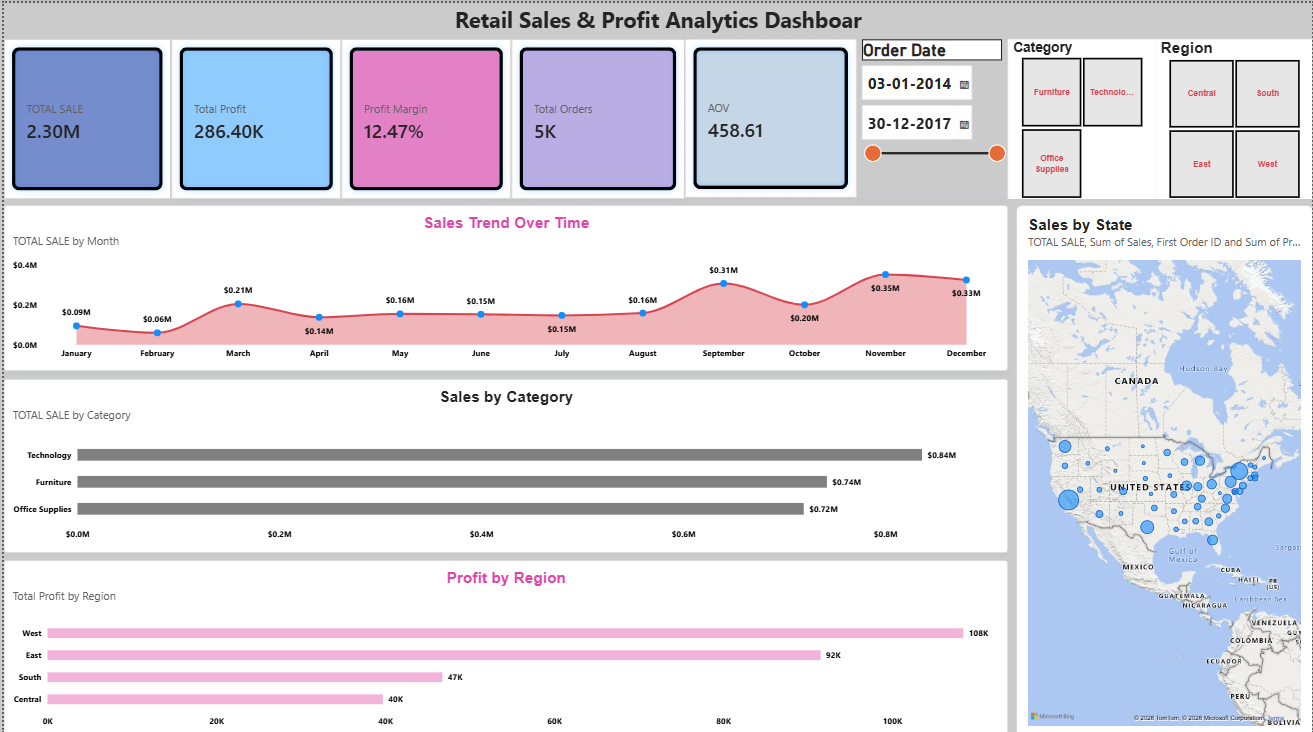

The page's visual inventory and layout, read from the dashboard file:
{"tool":"powerbi","page":{"name":"Page 1","canvas":[1920,1080],"ordinal":0},"visuals":[{"type":"cardVisual","fields":{"Data":["Sample - Superstore.TOTAL SALE"]},"box":[0,53.2,245.8,234.8],"z":0},{"type":"cardVisual","fields":{"Data":["Sample - Superstore.Total Profit"]},"box":[245.8,53.2,249.5,234.8],"z":1000},{"type":"cardVisual","fields":{"Data":["Sample - Superstore.Profit Margin"]},"box":[495.2,53.2,249.5,234.8],"z":2000},{"type":"cardVisual","fields":{"Data":["Sample - Superstore.Total Orders"]},"box":[744.7,53.2,255,234.8],"z":3000},{"type":"cardVisual","fields":{"Data":["Sample - Superstore.AOV"]},"box":[999.7,53.2,251.3,232],"z":4000},{"type":"lineChart","title":"Sales Trend Over Time","fields":{"Category":["Sample - Superstore.Order Date.Variation.Date Hierarchy.Month"],"Y":["Sample - Superstore.TOTAL SALE"]},"box":[0,297.1,1472.9,242.1],"z":5000},{"type":"clusteredBarChart","title":"Sales by Category","fields":{"Category":["Sample - Superstore.Category"],"Y":["Sample - Superstore.TOTAL SALE"]},"box":[0,552.1,1472.9,254],"z":6000},{"type":"clusteredBarChart","title":"Profit by Region","fields":{"Category":["Sample - Superstore.Region"],"Y":["Sample - Superstore.Total Profit"]},"box":[0,818.1,1472.9,262.3],"z":7000},{"type":"map","title":"Sales by State","fields":{"Category":["Sample - Superstore.State"],"Size":["Sample - Superstore.TOTAL SALE"]},"box":[1485.7,297.1,434.7,781.4],"z":8000},{"type":"slicer","fields":{"Values":["Sample - Superstore.Region"]},"box":[1689.3,53.2,231.1,234.8],"z":9000},{"type":"slicer","fields":{"Values":["Sample - Superstore.Category"]},"box":[1472.9,53.2,216.4,234.8],"z":10000},{"type":"slicer","fields":{"Values":["Sample - Superstore.Order Date"]},"box":[1251,53.2,221.9,234.8],"z":11000},{"type":"textbox","box":[0,1.8,1920.5,51.4],"z":12000}]}

Visuals, with their boxes in screenshot pixels (x1, y1, x2, y2), scaled from the page's 1920x1080 canvas onto the 1313x732 screenshot:
cardVisual - Sample - Superstore.TOTAL SALE: 0, 36, 168, 195
cardVisual - Sample - Superstore.Total Profit: 168, 36, 339, 195
cardVisual - Sample - Superstore.Profit Margin: 339, 36, 509, 195
cardVisual - Sample - Superstore.Total Orders: 509, 36, 684, 195
cardVisual - Sample - Superstore.AOV: 684, 36, 856, 193
"Sales Trend Over Time" lineChart: 0, 201, 1007, 365
"Sales by Category" clusteredBarChart: 0, 374, 1007, 546
"Profit by Region" clusteredBarChart: 0, 554, 1007, 731
"Sales by State" map: 1016, 201, 1312, 731
slicer - Sample - Superstore.Region: 1155, 36, 1312, 195
slicer - Sample - Superstore.Category: 1007, 36, 1155, 195
slicer - Sample - Superstore.Order Date: 856, 36, 1007, 195
textbox: 0, 1, 1312, 36
